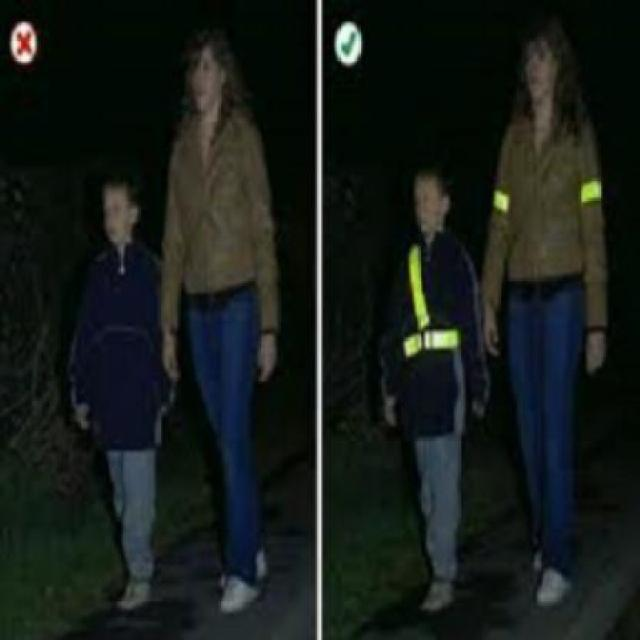Person: (155, 25, 290, 617), (481, 27, 612, 610), (60, 175, 178, 614), (384, 160, 494, 617)
